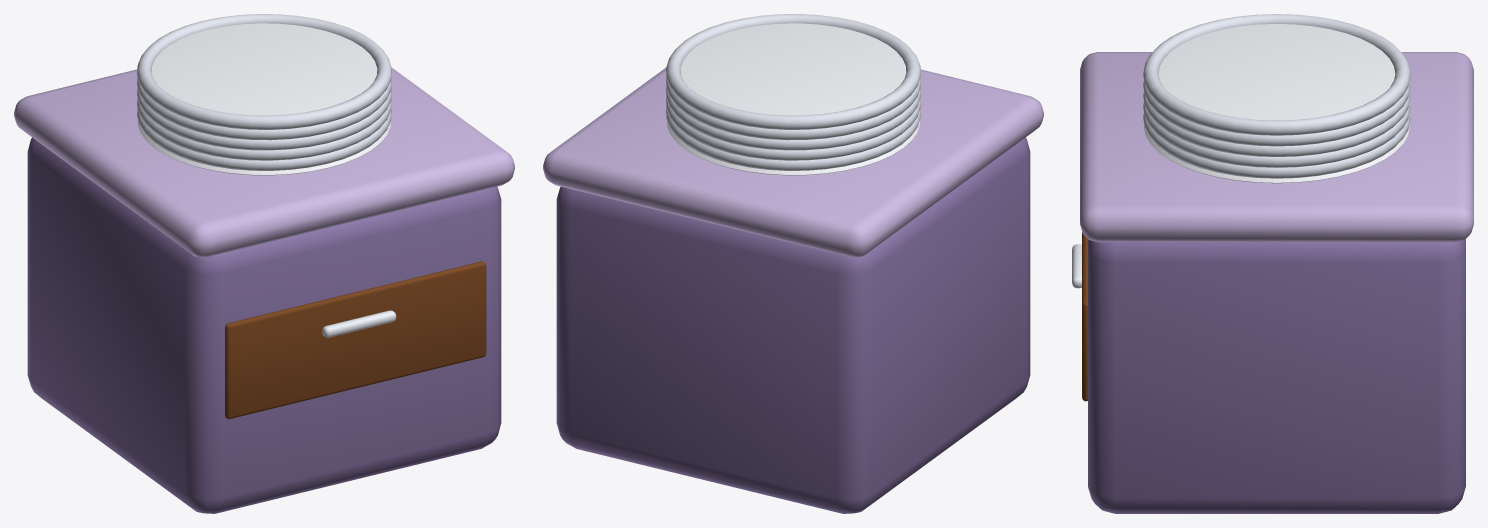
File: plate_station.glb
The picture shows the model from 3 angles, left to right: view 1: azimuth 30°, elevation 25°; view 2: azimuth 150°, elevation 25°; view 3: azimuth 270°, elevation 25°; orthographic projection. The views are drawn at different scales.
Parts seen in each view (by area): view 1: body, top, drawer, plate.004, rim.004, rim, rim.001, rim.002, rim.003, plate, handle; view 2: body, top, plate.004, rim.004, rim, rim.001, rim.002, rim.003, plate; view 3: body, top, plate.004, rim.004, rim, rim.003, rim.001, rim.002, plate, drawer.
Part boxes in pixels (left/top/right/bottom): body: left=27, top=137, right=501, bottom=513; top: left=14, top=67, right=514, bottom=257; drawer: left=225, top=261, right=486, bottom=418; plate.004: left=151, top=23, right=377, bottom=115; rim.004: left=137, top=14, right=391, bottom=129; rim: left=137, top=108, right=391, bottom=170; rim.001: left=137, top=98, right=391, bottom=160; rim.002: left=137, top=87, right=391, bottom=150; rim.003: left=137, top=77, right=391, bottom=140; plate: left=138, top=120, right=390, bottom=175; handle: left=322, top=310, right=396, bottom=337; body: left=556, top=137, right=1030, bottom=513; top: left=543, top=67, right=1043, bottom=257; plate.004: left=680, top=23, right=906, bottom=115; rim.004: left=666, top=14, right=920, bottom=129; rim: left=666, top=108, right=920, bottom=170; rim.001: left=666, top=98, right=920, bottom=160; rim.002: left=666, top=87, right=920, bottom=150; rim.003: left=666, top=77, right=920, bottom=140; plate: left=667, top=120, right=919, bottom=175; body: left=1088, top=239, right=1465, bottom=513; top: left=1080, top=52, right=1473, bottom=242; plate.004: left=1158, top=24, right=1395, bottom=120; rim.004: left=1143, top=14, right=1410, bottom=135; rim: left=1143, top=112, right=1410, bottom=178; rim.003: left=1143, top=80, right=1410, bottom=146; rim.001: left=1143, top=102, right=1410, bottom=167; rim.002: left=1143, top=91, right=1410, bottom=156; plate: left=1144, top=125, right=1409, bottom=183; drawer: left=1082, top=232, right=1087, bottom=401.
Bounding box in the file's own units: 1 × 1.05 × 1.02.
